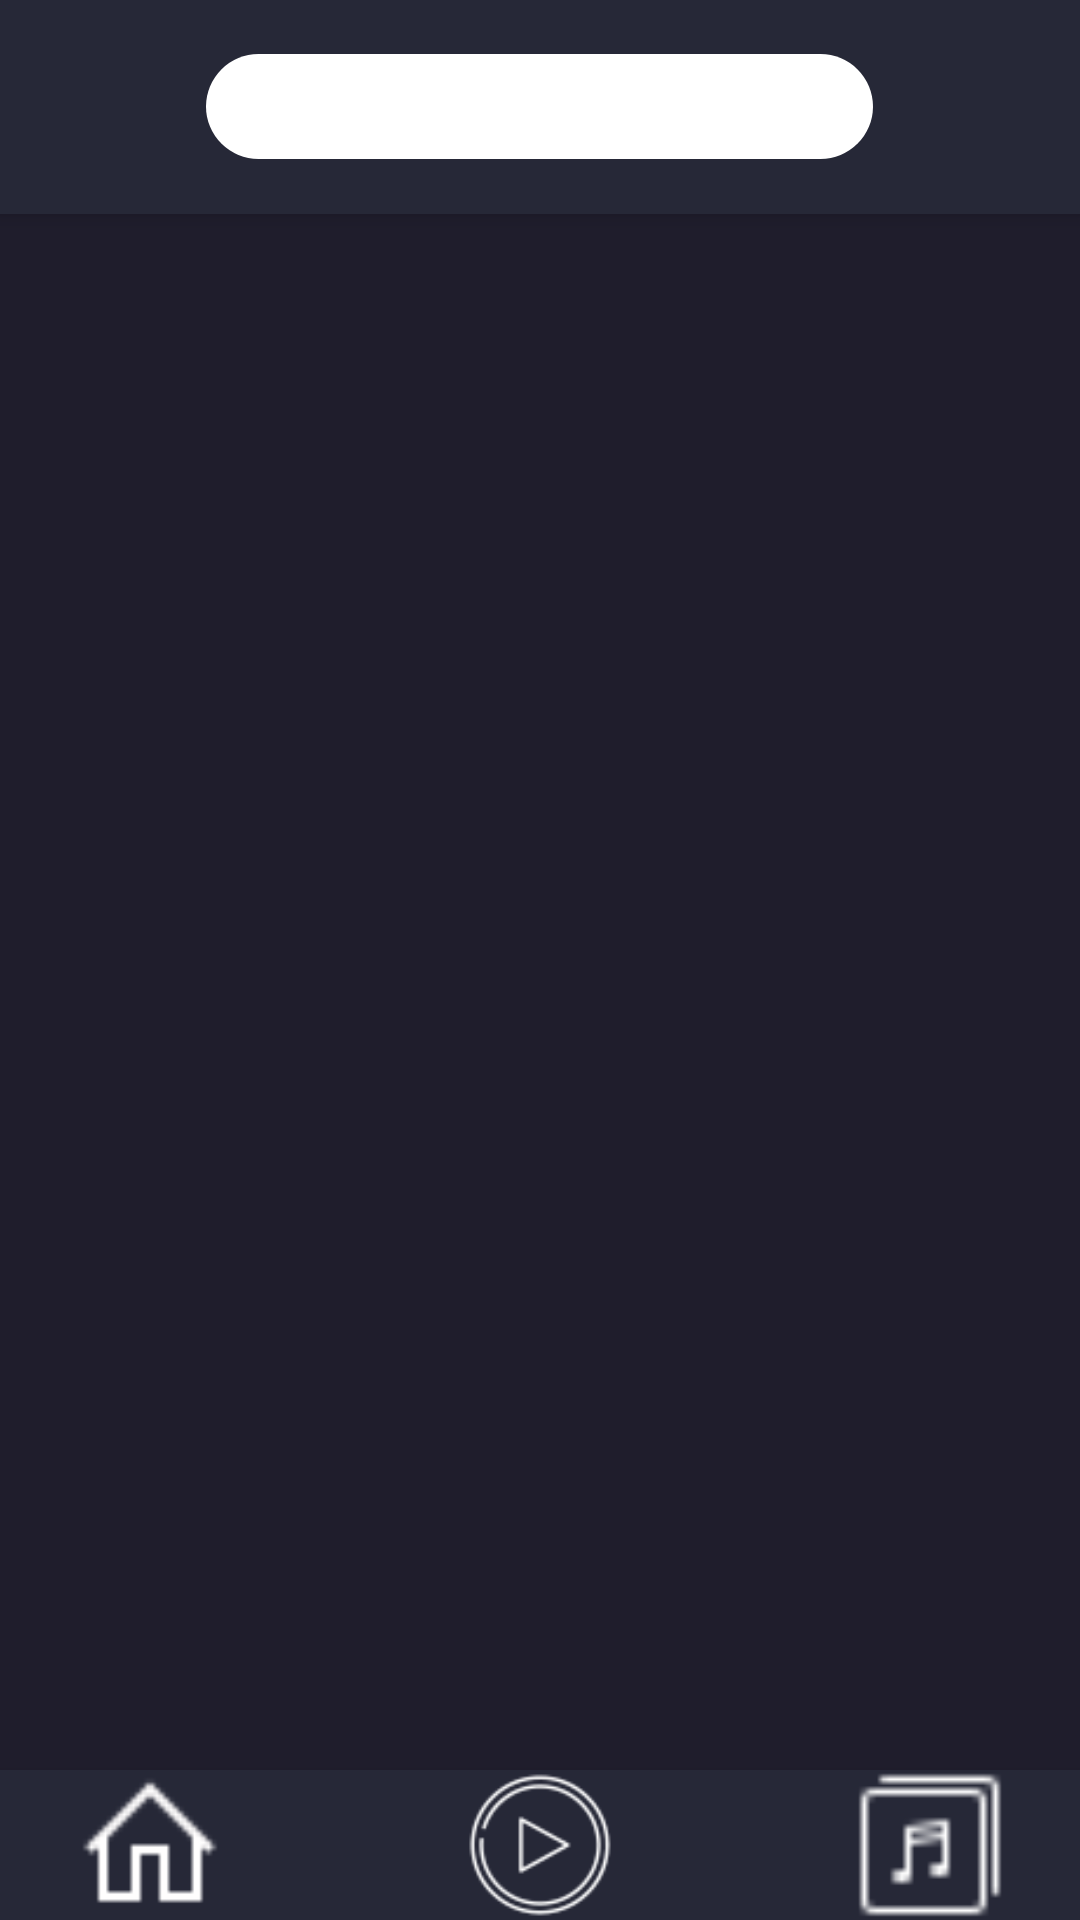

Screen size 1080px x 1920px. Icon name, then its center in pixels as point (x, y):
album: point (930, 1845)
home: point (150, 1842)
play: point (540, 1845)
